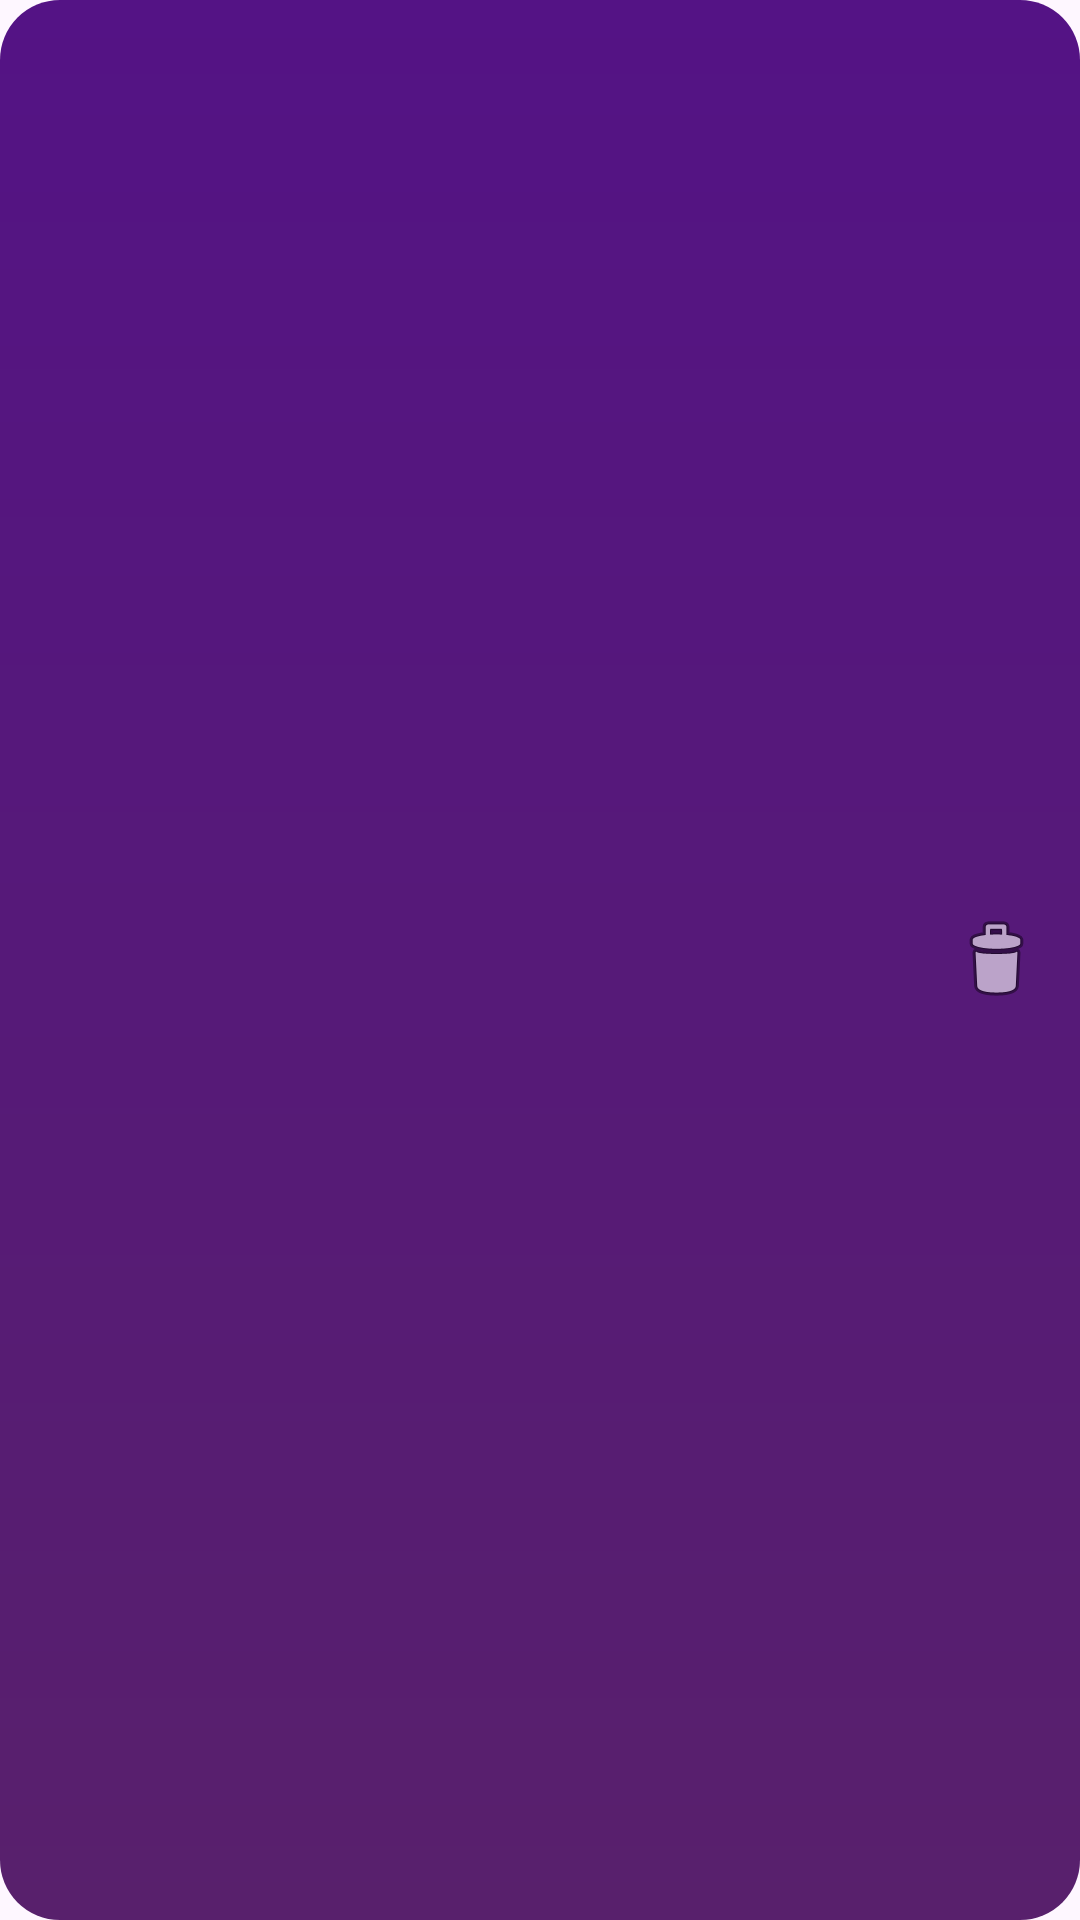

Screen size 1080px x 1920px. Icon name, then its center in pixels as (x,y):
delete: (996,958)
